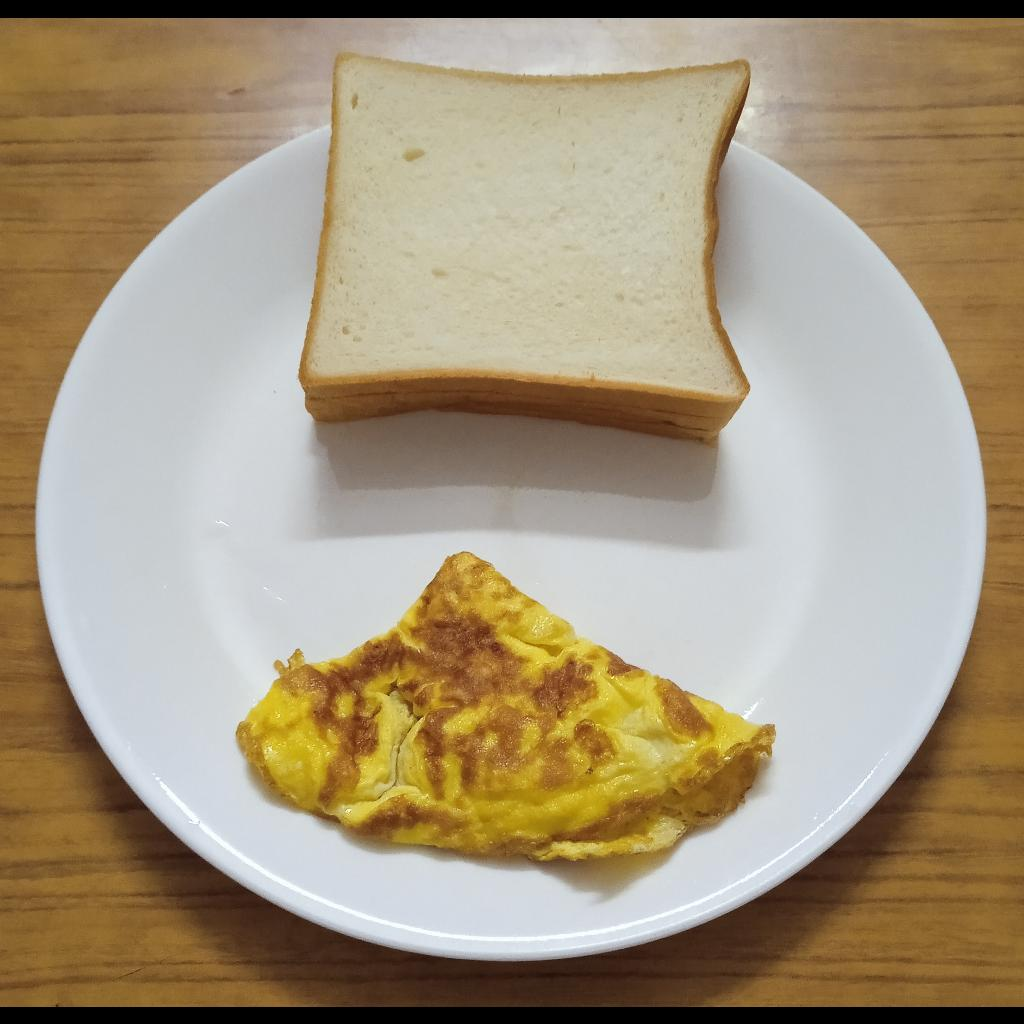bread: (299, 52, 751, 443)
egg-poached: (237, 550, 778, 861)
